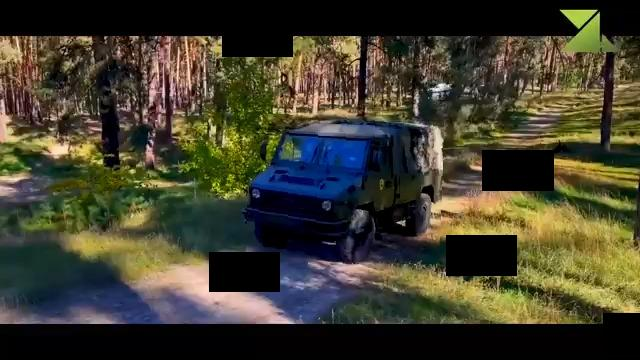MIL_HMMWV: (247, 115, 443, 263)
